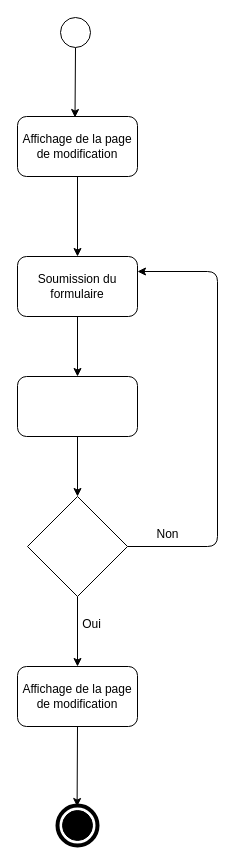
The diagram is 243 pixels wide and 865 high, and some of its shapes have lost their labels. Here are the shapes that lost their labels. From the top down, the centre of each, then its label:
the point at 77,406: Validation du formulaire
the point at 77,546: Le formlaire est valider
